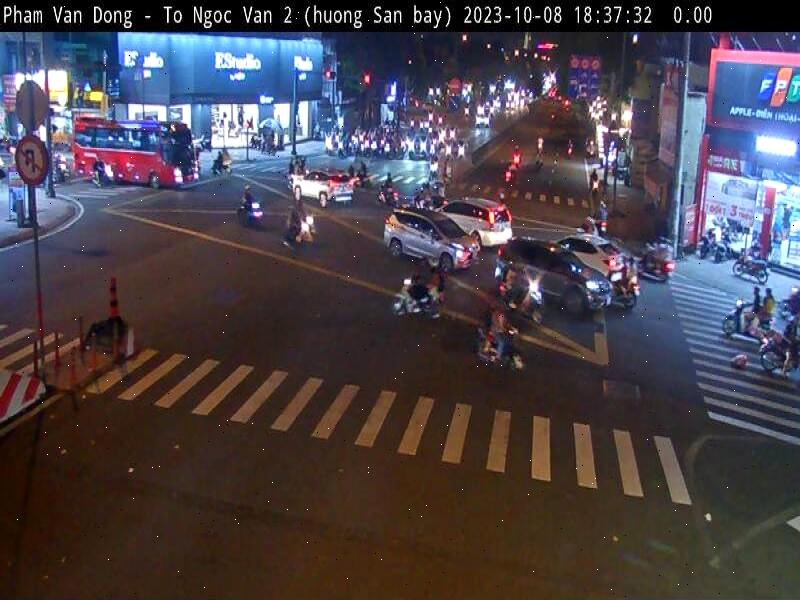bus: (58, 96, 198, 196)
car: (487, 231, 619, 325), (380, 197, 479, 278), (431, 186, 510, 246), (554, 221, 632, 274), (291, 168, 360, 218)
